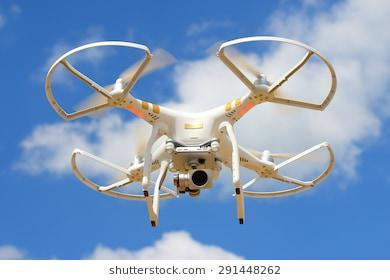drone: (32, 32, 354, 228)
